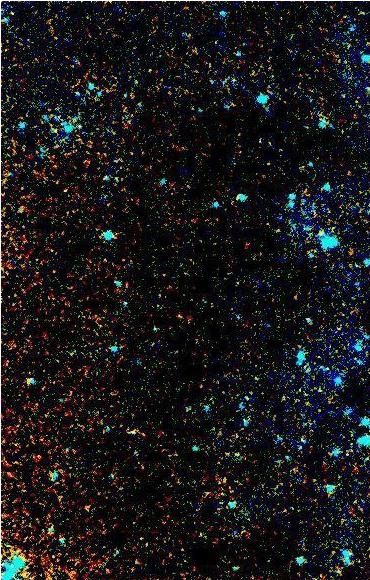star: (169, 303, 199, 333)
